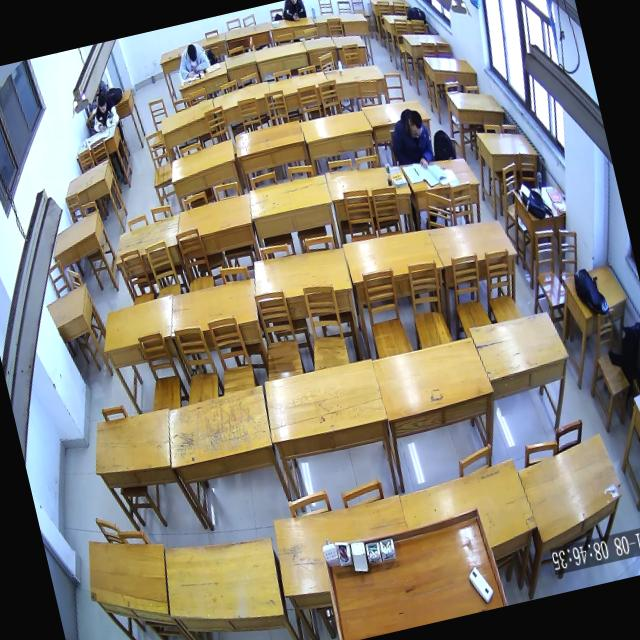bow: (174, 40, 212, 80)
down: (405, 107, 426, 139), (95, 92, 108, 114), (186, 42, 198, 62)
sit: (384, 104, 437, 175), (86, 90, 122, 133)
